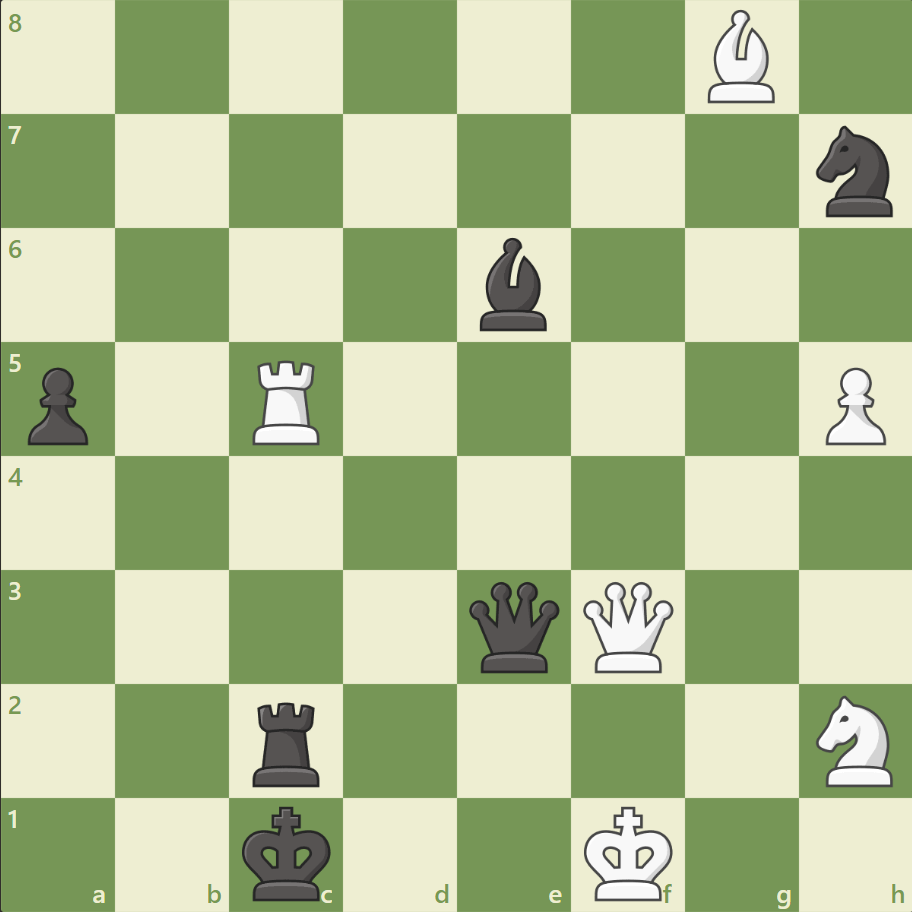B: (706, 12, 784, 115)
K: (582, 807, 680, 909)
N: (814, 694, 903, 795)
P: (823, 362, 895, 447)
Q: (581, 580, 682, 682)
R: (251, 354, 330, 454)
b: (479, 239, 557, 342)
k: (242, 807, 340, 909)
n: (814, 127, 903, 228)
p: (28, 362, 100, 447)
q: (468, 580, 569, 682)
r: (251, 694, 330, 794)
